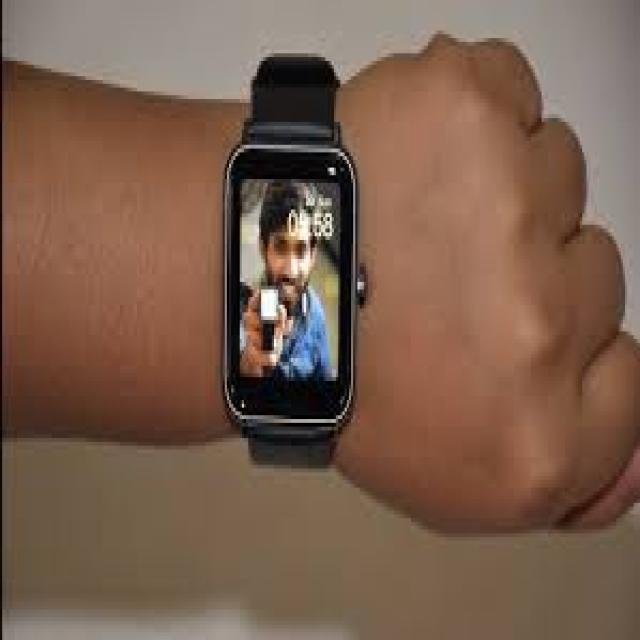objects: (222, 51, 362, 474)
